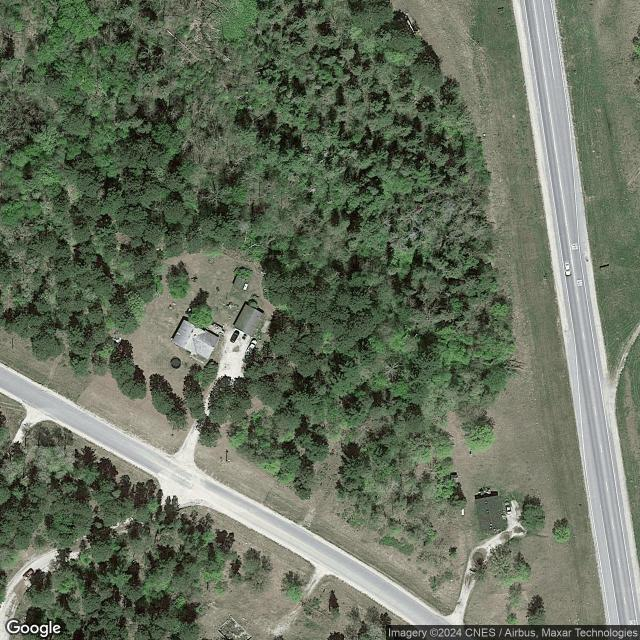Propane: (242, 282, 249, 292), (461, 507, 465, 517)
